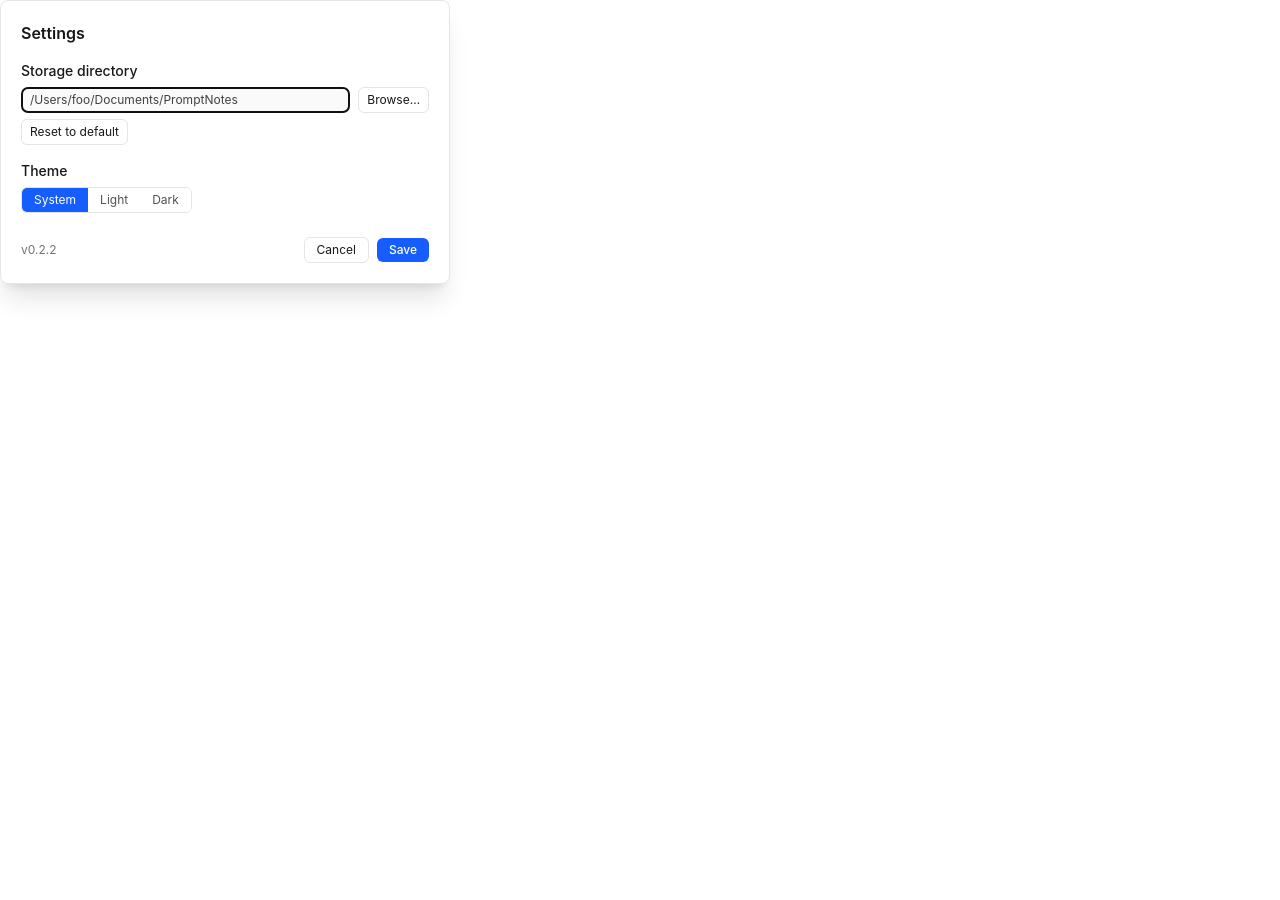
Scenario: widget:widget-settings-modal spec#tp-sm-storage-dir-validation › invalid_path / not_absolute — 「絶対パスを指定してください」を表示する
Click the button "Reset to default".
click(74, 132)  # box [21, 119, 128, 145]
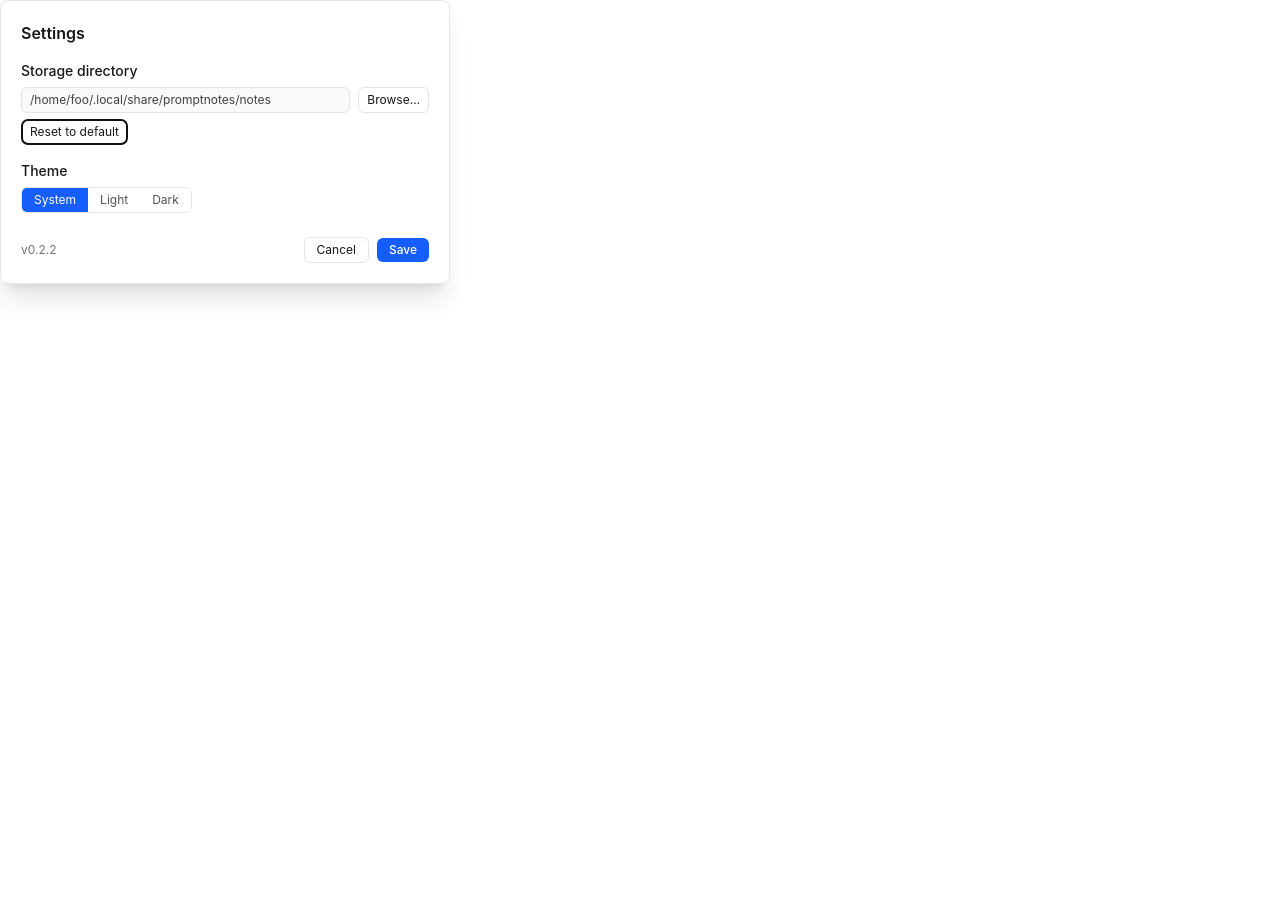
Click the button "Save".
click(403, 250)  # box [377, 238, 429, 262]
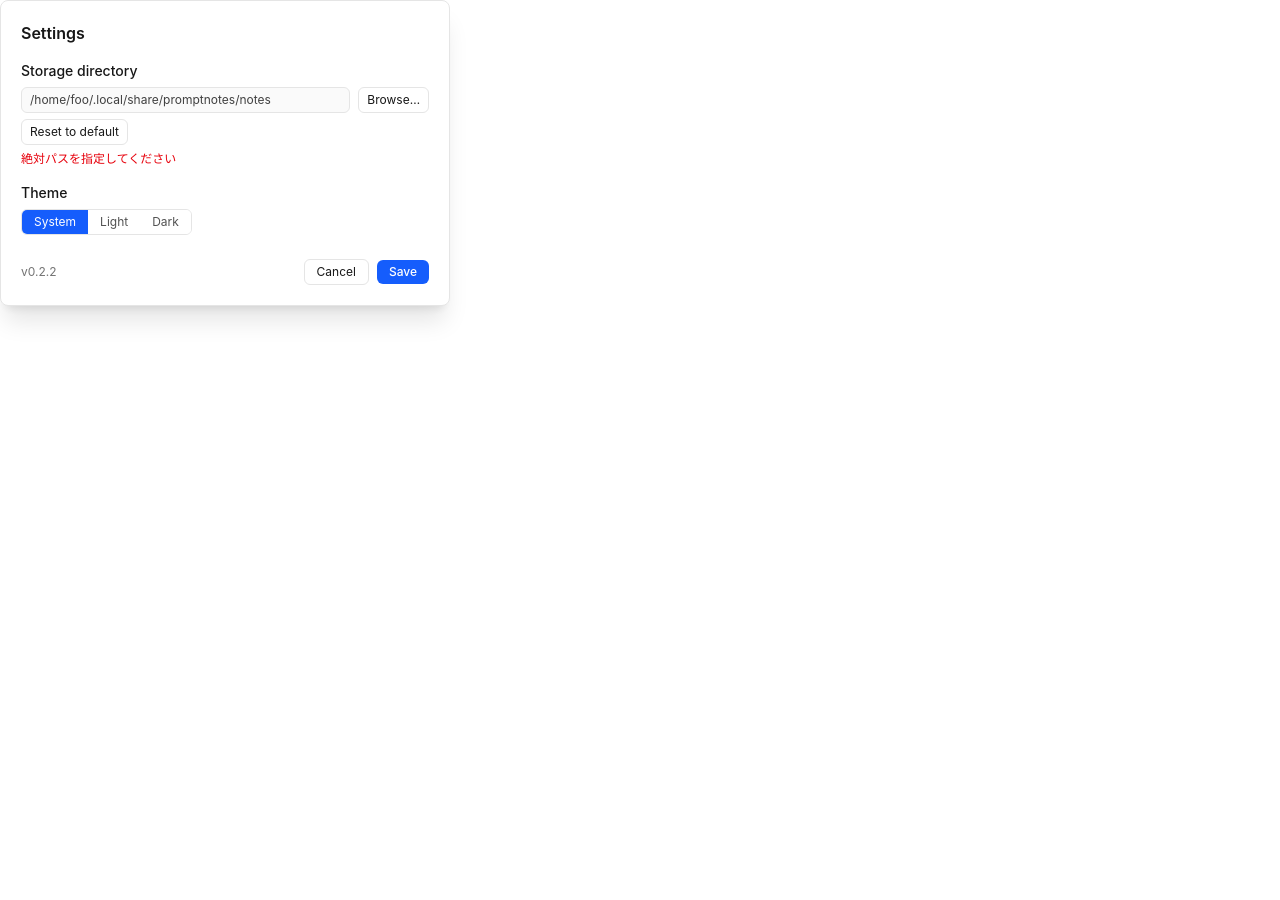
Now the text "絶対パスを指定してください" is shown, box [21, 151, 176, 166]
